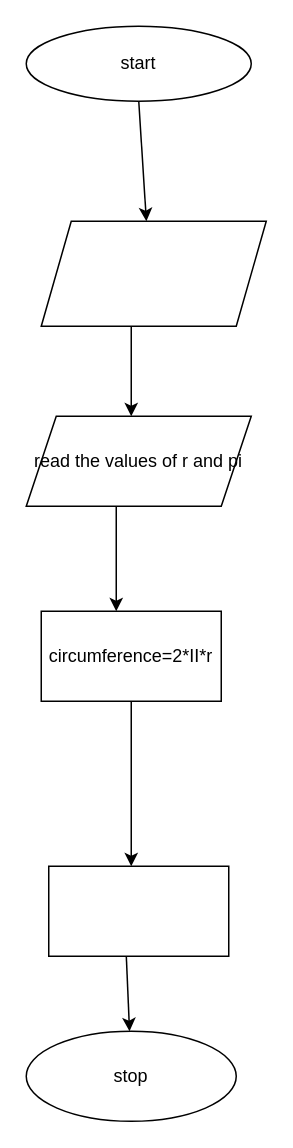
Some shapes in this 293 by 1148 pixel diagram are drawn without their labels. Each missing label, with the centre of its shape:
declare r,pi,circumferenence: point 153,273
print circumference: point 138,910
